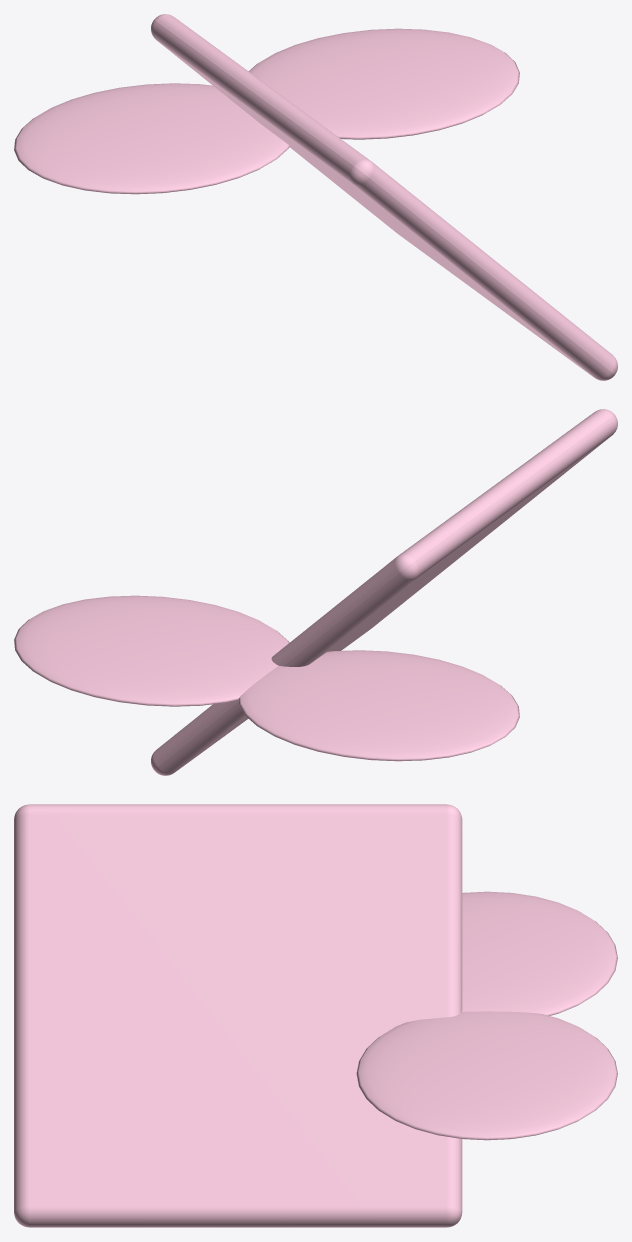
The model's file is 爱心绒毛地毯.fbx.
The picture shows the model from 3 angles, top to bottom: view 1: azimuth 30°, elevation 25°; view 2: azimuth 150°, elevation 25°; view 3: azimuth 270°, elevation 25°; orthographic projection. The views are drawn at different scales.
Visible parts, largest first — view 1: 爱心绒毛地毯_左圆瓣, 爱心绒毛地毯_右圆瓣, 爱心绒毛地毯_下心尖; view 2: 爱心绒毛地毯_左圆瓣, 爱心绒毛地毯_右圆瓣, 爱心绒毛地毯_下心尖; view 3: 爱心绒毛地毯_下心尖, 爱心绒毛地毯_右圆瓣, 爱心绒毛地毯_左圆瓣.
Part boxes in pixels (<box>): 爱心绒毛地毯_左圆瓣: <box>14,83,289,194</box>; 爱心绒毛地毯_右圆瓣: <box>248,28,519,139</box>; 爱心绒毛地毯_下心尖: <box>151,14,617,380</box>; 爱心绒毛地毯_左圆瓣: <box>238,650,519,761</box>; 爱心绒毛地毯_右圆瓣: <box>14,595,289,706</box>; 爱心绒毛地毯_下心尖: <box>151,409,617,775</box>; 爱心绒毛地毯_下心尖: <box>14,804,462,1227</box>; 爱心绒毛地毯_右圆瓣: <box>356,1011,617,1140</box>; 爱心绒毛地毯_左圆瓣: <box>462,891,617,1015</box>.
Bounding box in the file's own units: 94 × 52.38 × 97.
